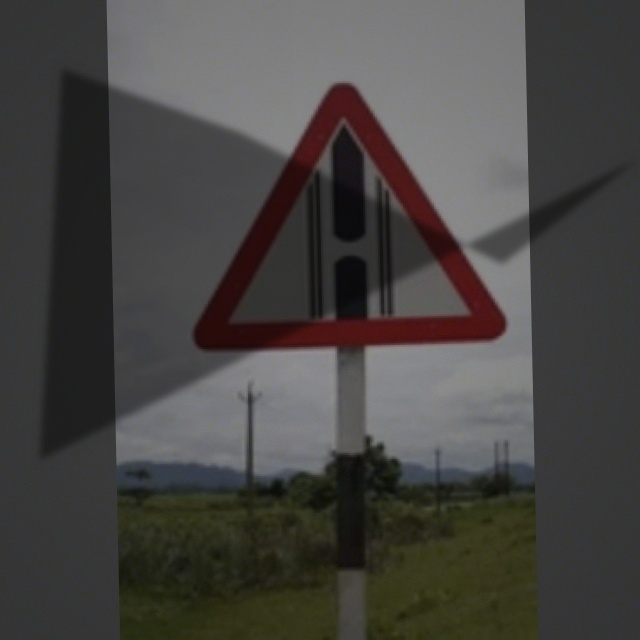Gap_in_Median: (189, 61, 504, 350)
